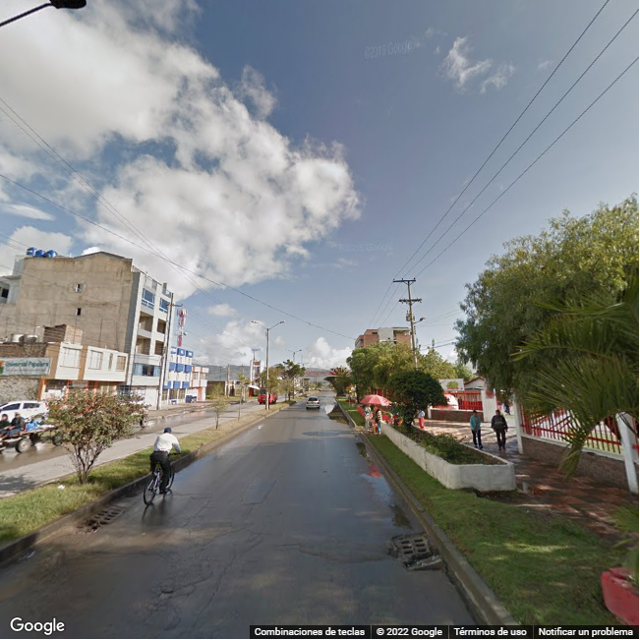D00: (188, 546, 239, 629)
D40: (150, 584, 178, 597)
